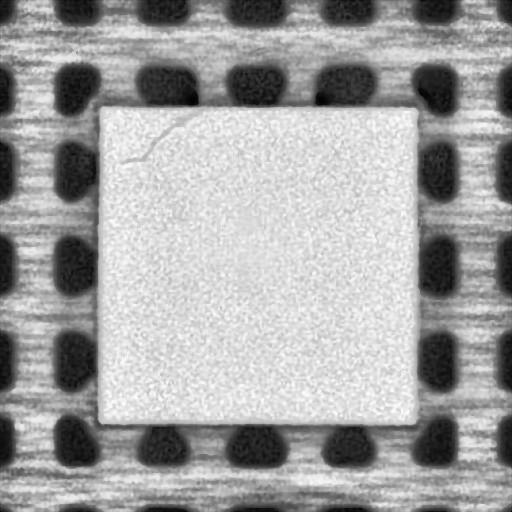DIE_CRACK: (124, 107, 204, 162)
